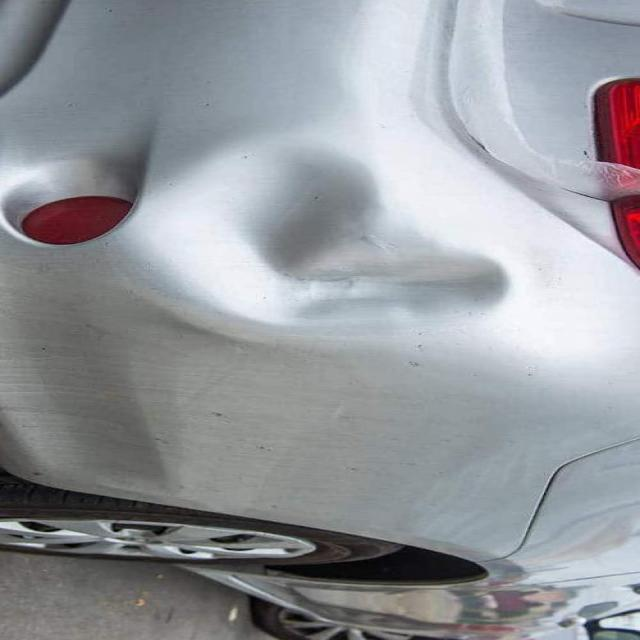dent: (117, 145, 538, 343)
